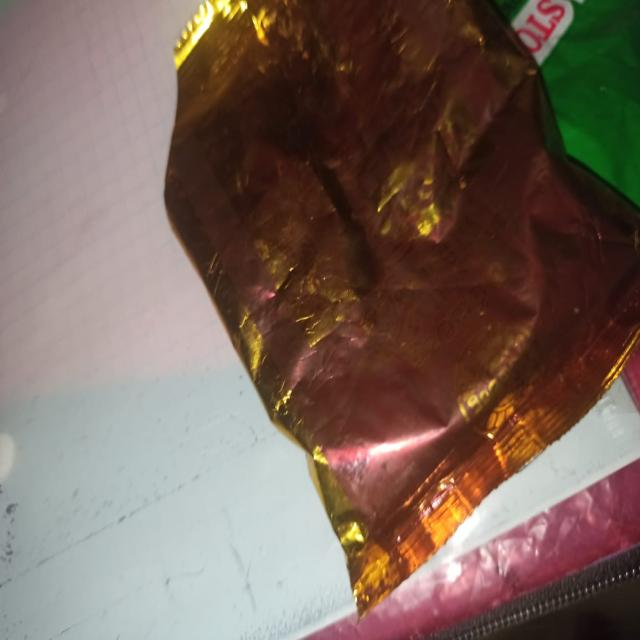Harischandra Coffee: (141, 0, 640, 583)
